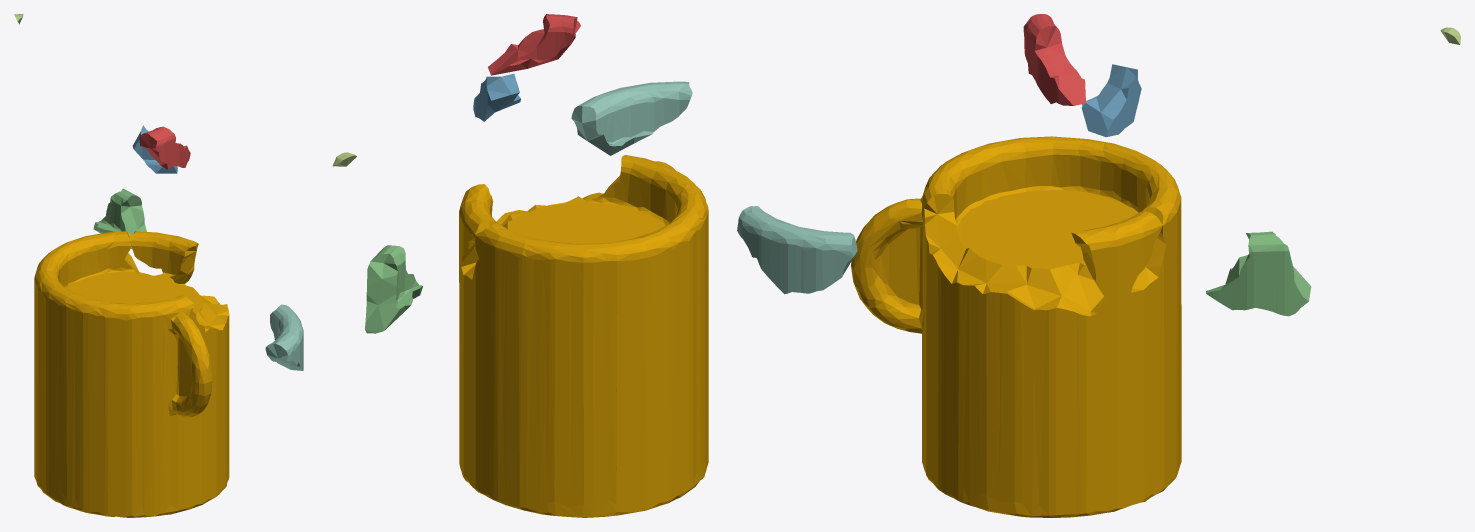
The model's file is fractured_1_6pcs_transformed.glb.
3 views of the same model, side by side, from view 1: azimuth 30°, elevation 25°; view 2: azimuth 150°, elevation 25°; view 3: azimuth 270°, elevation 25° (orthographic). The views are drawn at different scales.
Visible parts, largest first — view 1: piece_0.obj, piece_4.obj, piece_3.obj, piece_1.obj, piece_2.obj; view 2: piece_0.obj, piece_4.obj, piece_3.obj, piece_1.obj, piece_2.obj; view 3: piece_0.obj, piece_4.obj, piece_3.obj, piece_1.obj, piece_2.obj.
Part boxes in pixels (left/top/right/bottom): piece_0.obj: left=34, top=231, right=229, bottom=517; piece_4.obj: left=265, top=304, right=303, bottom=370; piece_3.obj: left=93, top=188, right=146, bottom=248; piece_1.obj: left=139, top=126, right=190, bottom=169; piece_2.obj: left=132, top=125, right=177, bottom=173; piece_0.obj: left=459, top=155, right=708, bottom=517; piece_4.obj: left=571, top=81, right=692, bottom=155; piece_3.obj: left=365, top=245, right=422, bottom=333; piece_1.obj: left=488, top=14, right=580, bottom=75; piece_2.obj: left=473, top=73, right=520, bottom=121; piece_0.obj: left=851, top=136, right=1181, bottom=517; piece_4.obj: left=737, top=206, right=857, bottom=294; piece_3.obj: left=1206, top=231, right=1311, bottom=316; piece_1.obj: left=1023, top=14, right=1085, bottom=105; piece_2.obj: left=1081, top=64, right=1141, bottom=137.
Size of the model in its own units: 0.7845 by 1.53 by 2.19.
